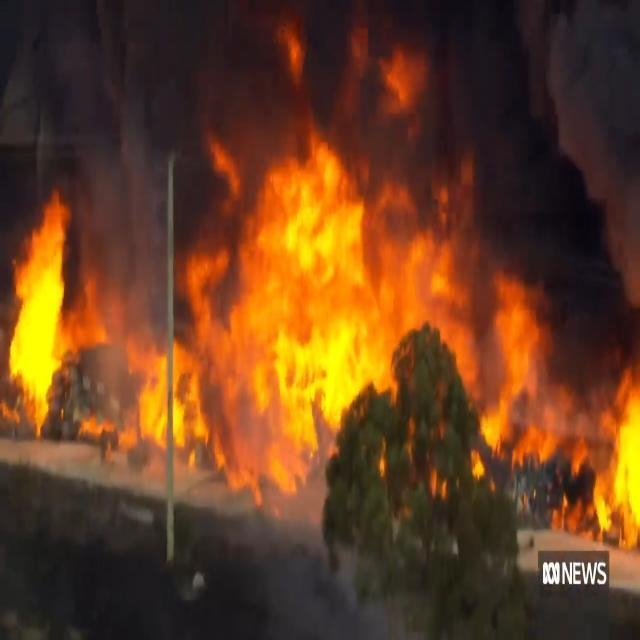fire: (7, 14, 577, 504), (600, 373, 640, 552)
